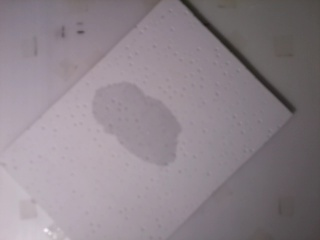Water_detected: (105, 101, 169, 160)
